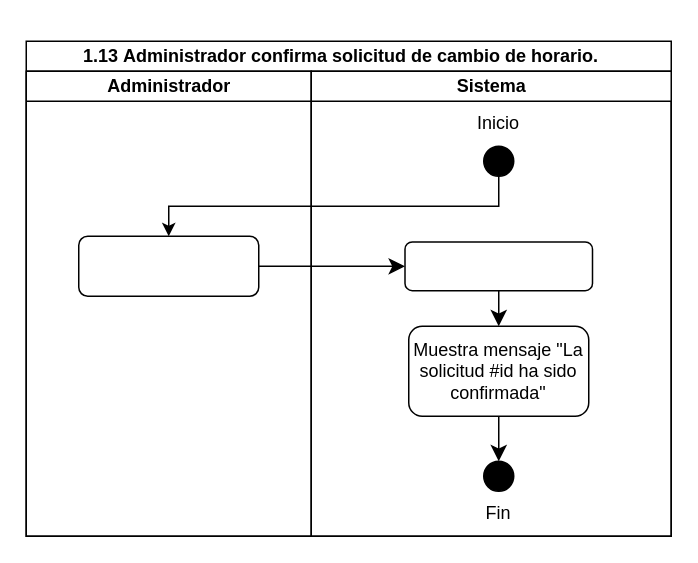
Image size: 698x563. Some labels were removed from this diagram. Here are the shapes that lost their labels. From the top down, the centre of each, then its label:
point 168,265: Selecciona botón "Confirmar"
point 498,265: Registra confirmación
